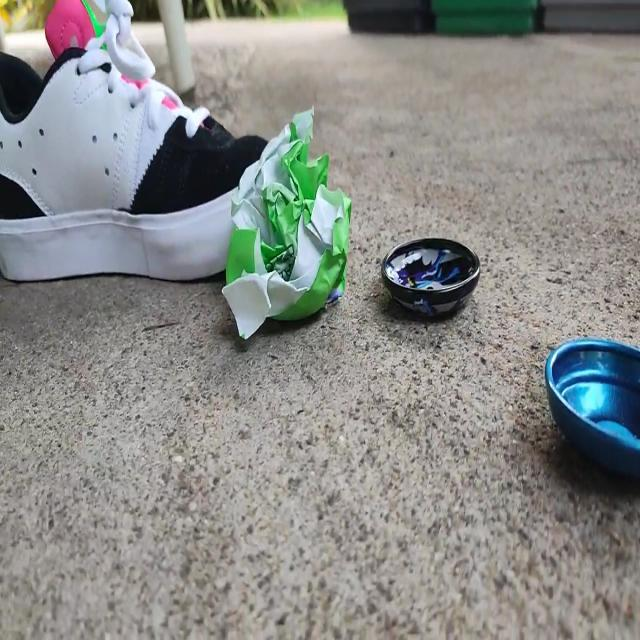paper: (218, 79, 354, 349)
